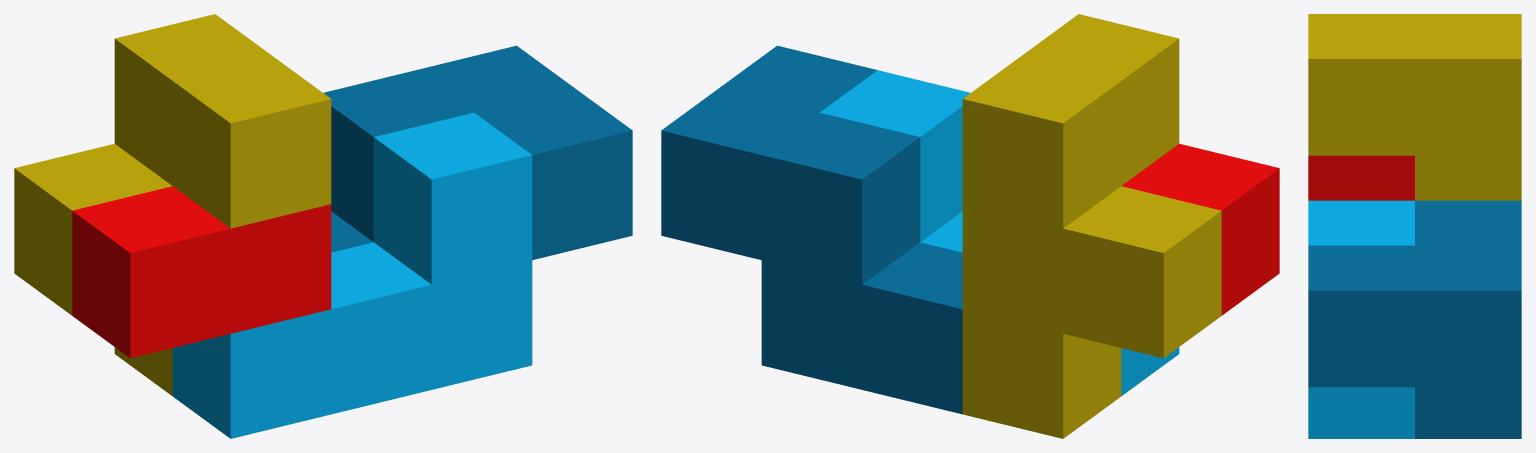
The picture shows the model from 3 angles, left to right: view 1: azimuth 30°, elevation 25°; view 2: azimuth 150°, elevation 25°; view 3: azimuth 270°, elevation 25°; orthographic projection. The views are drawn at different scales.
Visible parts, largest first — view 1: mergedBlocks(Clone); view 2: mergedBlocks(Clone); view 3: mergedBlocks(Clone).
Part boxes in pixels (x1,y1,x2,y2): mergedBlocks(Clone): (14, 14, 632, 438); mergedBlocks(Clone): (661, 14, 1279, 438); mergedBlocks(Clone): (1308, 14, 1521, 438).
Size of the model in its own units: 5 by 3 by 2.
4 materials, 4 textured.
